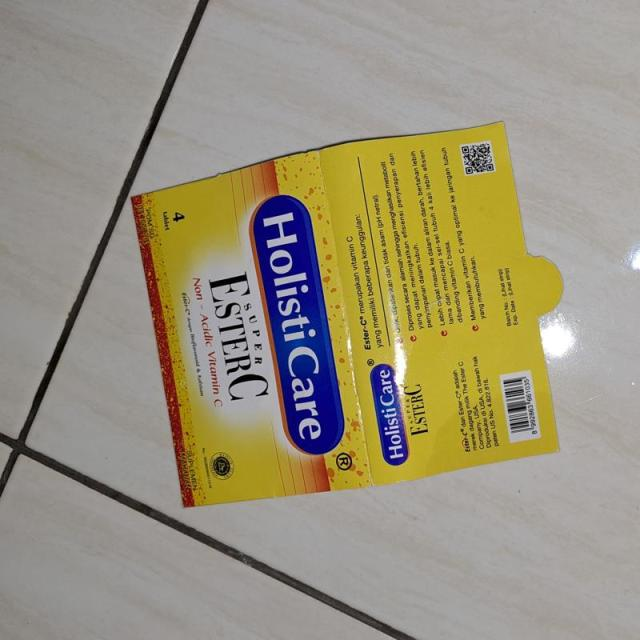B3: (125, 114, 571, 515)
